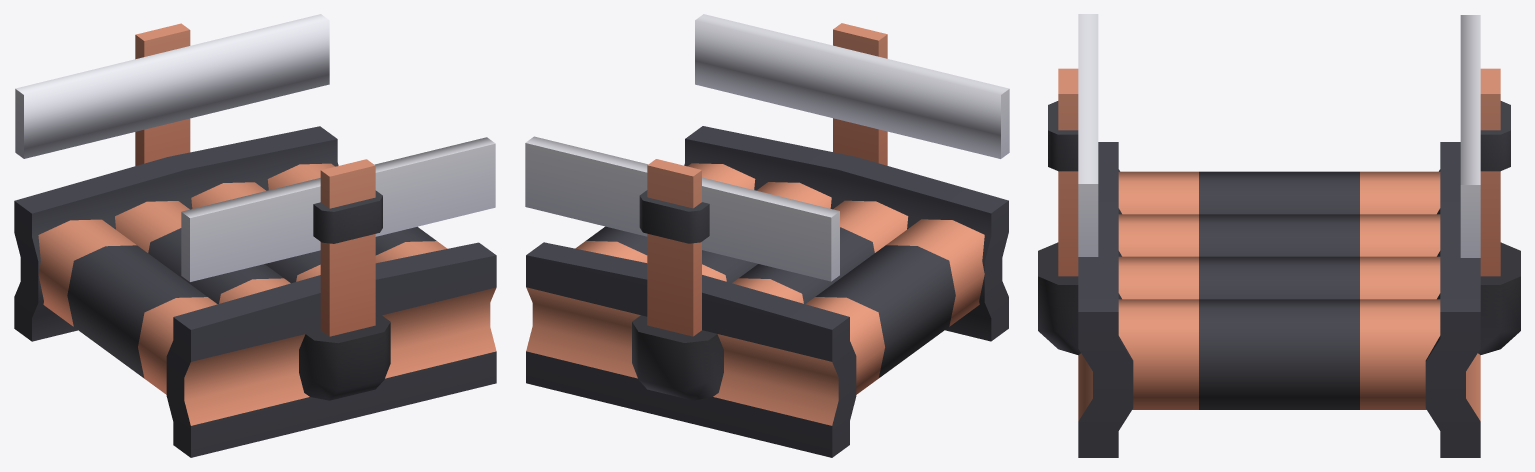
Rendered from conveyor-bars-stripe-fence.obj.
The picture shows the model from 3 angles, left to right: view 1: azimuth 30°, elevation 25°; view 2: azimuth 150°, elevation 25°; view 3: azimuth 270°, elevation 25°; orthographic projection. The views are drawn at different scales.
Visible parts, largest first — view 1: conveyor-bars-stripe-fence; view 2: conveyor-bars-stripe-fence; view 3: conveyor-bars-stripe-fence.
Boxes of the visible parts, <box> form: conveyor-bars-stripe-fence: <box>14,14,496,457</box>; conveyor-bars-stripe-fence: <box>525,14,1009,457</box>; conveyor-bars-stripe-fence: <box>1038,14,1520,457</box>.
Bounding box in the file's own units: 1.01 × 0.8 × 1.2.
